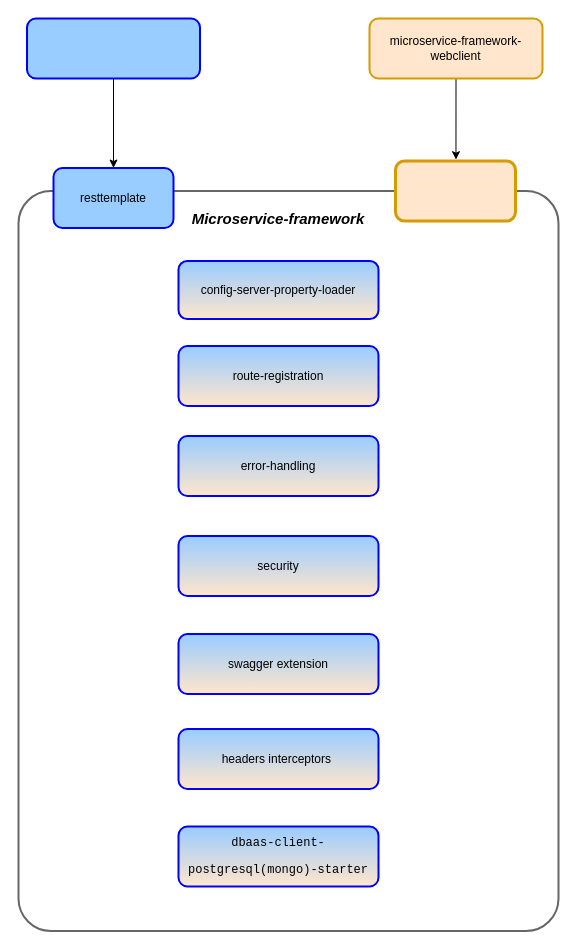
This 576x949 diagram has some shape labels left out. The centre of each missing label's shape, as x and y in pixels:
microservice-framework-resttemplate: the point at 113,48
webclient: the point at 455,190
